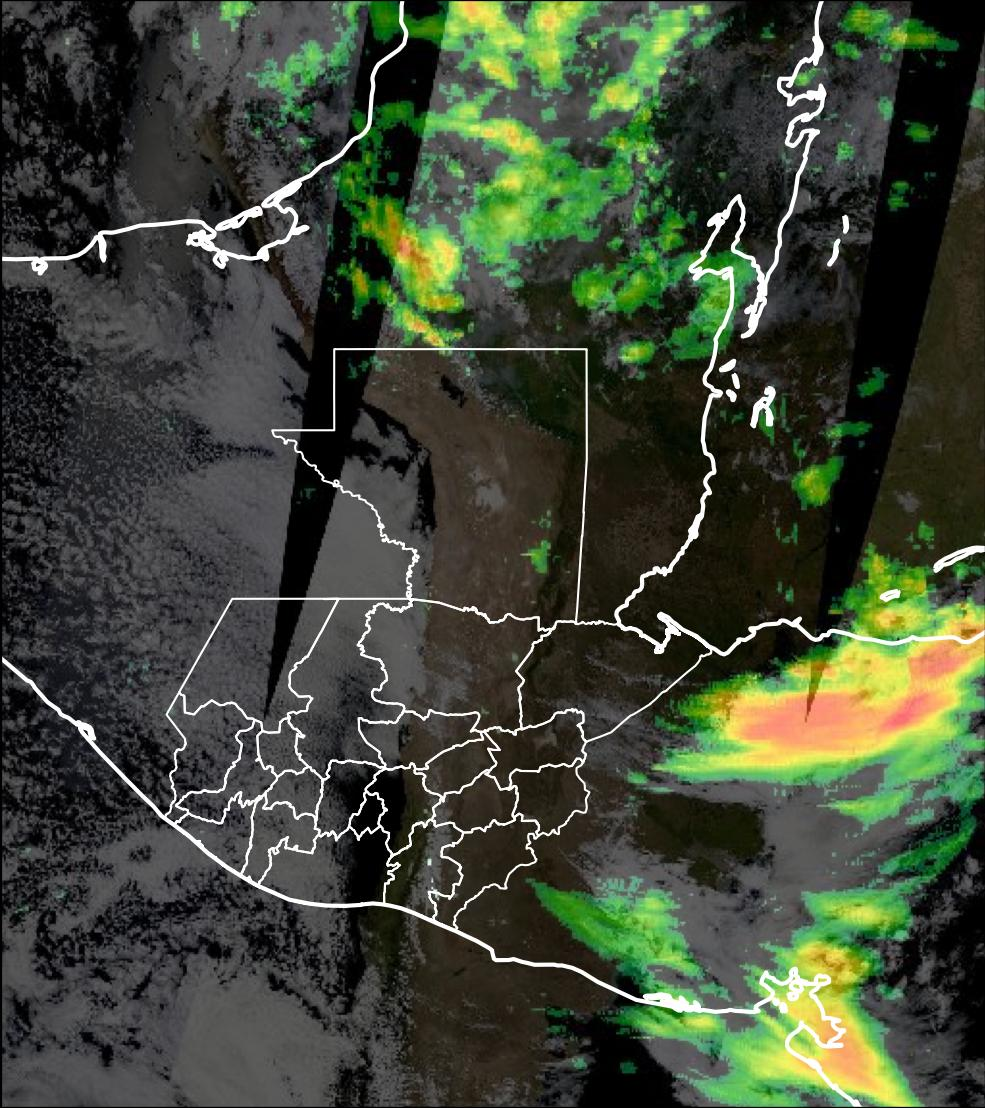precipitacion: (710, 674, 957, 775)
